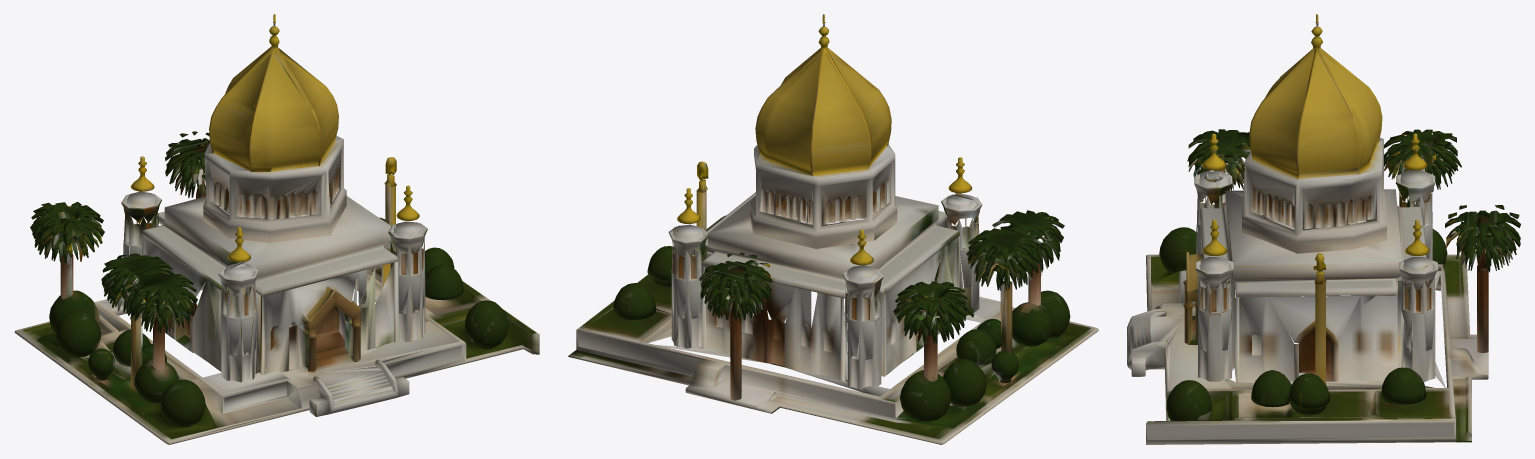
File: masjid_1.glb
3 renders of one model, left to right at view 1: azimuth 30°, elevation 25°; view 2: azimuth 150°, elevation 25°; view 3: azimuth 270°, elevation 25°, orthographic. The views are drawn at different scales.
Visible parts, largest first — view 1: tripo_node_acfb8538; view 2: tripo_node_acfb8538; view 3: tripo_node_acfb8538.
Part boxes in pixels (x1,y1,x2,y2): tripo_node_acfb8538: (14, 14, 539, 444); tripo_node_acfb8538: (568, 14, 1098, 444); tripo_node_acfb8538: (1127, 14, 1520, 444).
Bounding box in the file's own units: 1 × 0.8407 × 0.881.
Materials: 1 (1 with a texture image).
